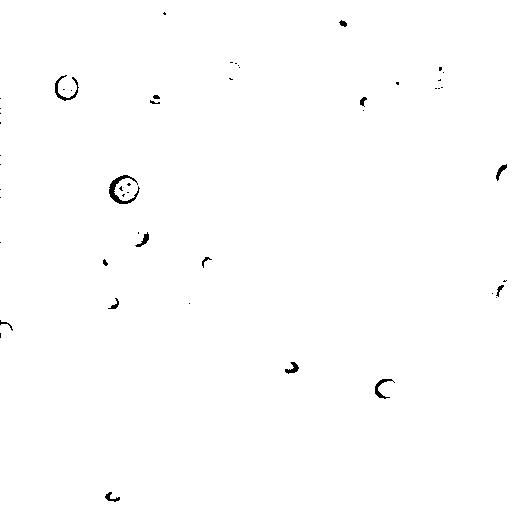micro-algae: (87, 145, 170, 232), (329, 7, 360, 42), (107, 174, 141, 205), (53, 73, 79, 103), (385, 67, 409, 99), (426, 57, 451, 86), (69, 491, 103, 512), (491, 275, 511, 309), (181, 294, 207, 320), (194, 249, 222, 272), (218, 58, 245, 81), (95, 248, 121, 271), (376, 377, 403, 399), (128, 225, 152, 249), (357, 92, 378, 115), (494, 161, 511, 189), (100, 291, 121, 313), (156, 4, 176, 26), (279, 359, 300, 374), (1, 320, 14, 338), (105, 489, 123, 502)
